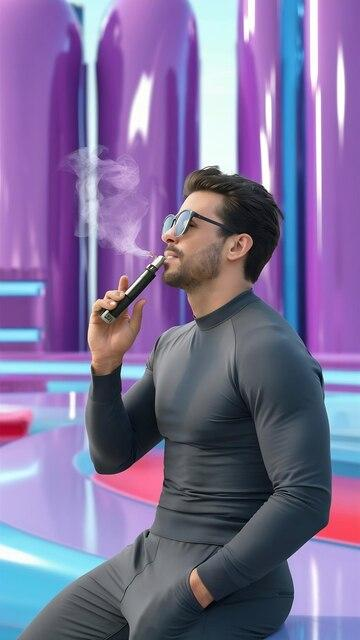Vape: (99, 255, 167, 325)
